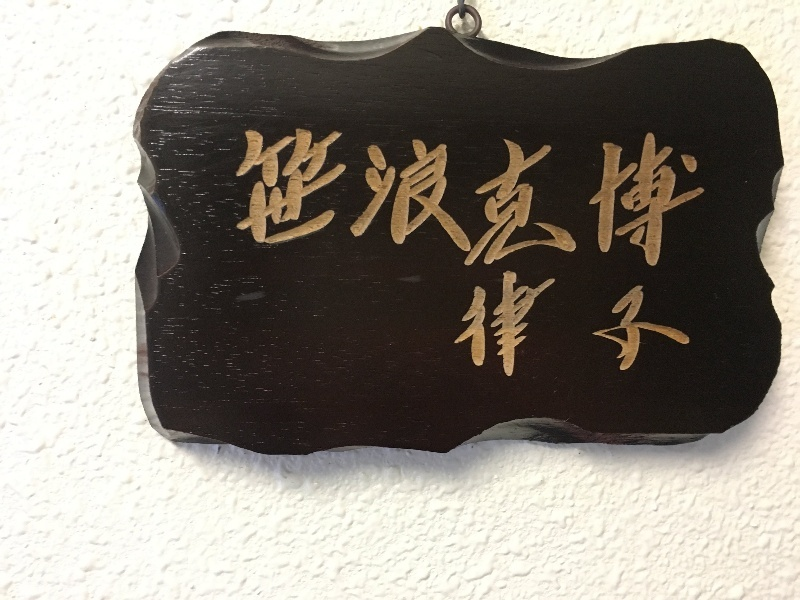text: (241, 122, 256, 271), (257, 122, 272, 271), (273, 122, 288, 271), (289, 122, 304, 271), (305, 122, 320, 271), (321, 122, 336, 271), (337, 122, 352, 271), (353, 122, 368, 271), (369, 122, 384, 271), (385, 122, 400, 271), (401, 122, 416, 271), (417, 122, 432, 271), (433, 122, 448, 271), (449, 122, 464, 271), (465, 122, 480, 271), (481, 122, 496, 271), (497, 122, 512, 271), (513, 122, 528, 271), (529, 122, 544, 271), (545, 122, 560, 271), (561, 122, 576, 271), (577, 122, 592, 271), (593, 122, 608, 271), (609, 122, 624, 271), (625, 122, 640, 271), (641, 122, 656, 271), (657, 122, 672, 271), (673, 122, 688, 271), (689, 122, 704, 271), (465, 270, 480, 383), (481, 270, 496, 383), (497, 270, 512, 383), (513, 270, 528, 383), (529, 270, 544, 383), (545, 270, 560, 383), (561, 270, 576, 383), (577, 270, 592, 383), (593, 270, 608, 383), (609, 270, 624, 383), (625, 270, 640, 383), (641, 270, 656, 383), (657, 270, 672, 383), (673, 270, 688, 383), (454, 270, 464, 383), (689, 270, 697, 383), (235, 122, 240, 271), (705, 122, 708, 271)
